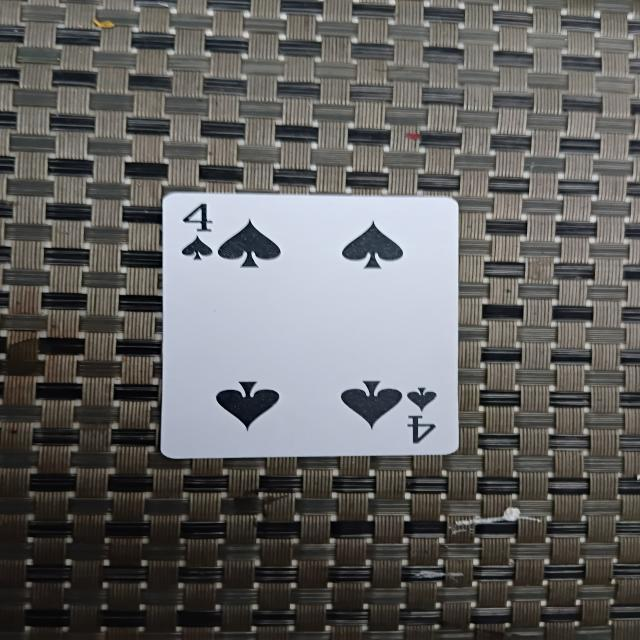4S: (159, 193, 462, 453)
